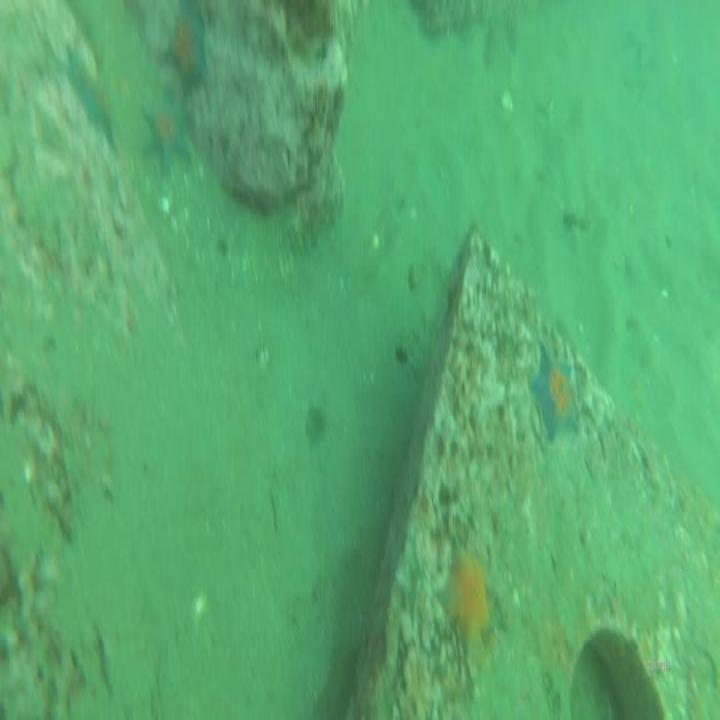holothurian: (283, 188, 338, 256)
starfish: (433, 542, 494, 651), (60, 44, 117, 148), (526, 339, 581, 444), (139, 91, 190, 174), (168, 14, 209, 89)
